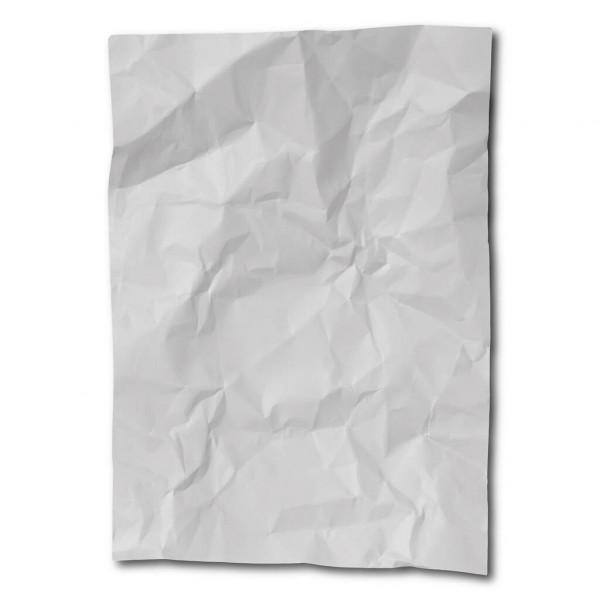paper: (98, 20, 516, 585)
